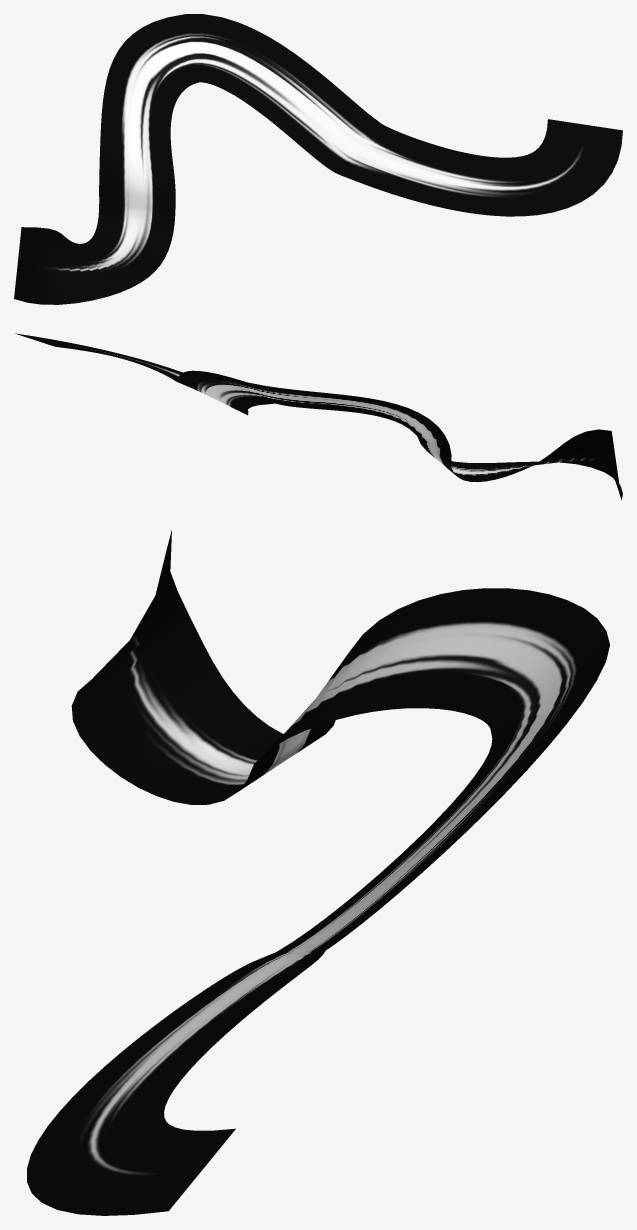
Rendered from Wind.fbx.
3 renders of one model, top to bottom at view 1: azimuth 30°, elevation 25°; view 2: azimuth 150°, elevation 25°; view 3: azimuth 270°, elevation 25°, orthographic. The views are drawn at different scales.
Parts seen in each view (by area): view 1: SM_e_Plc_P0012_Wind001; view 2: SM_e_Plc_P0012_Wind001; view 3: SM_e_Plc_P0012_Wind001.
Part boxes in pixels (x1,y1,x2,y2): SM_e_Plc_P0012_Wind001: [14, 14, 622, 304]; SM_e_Plc_P0012_Wind001: [15, 333, 622, 499]; SM_e_Plc_P0012_Wind001: [27, 530, 609, 1215].
Size of the model in its own units: 276 by 63.24 by 115.
